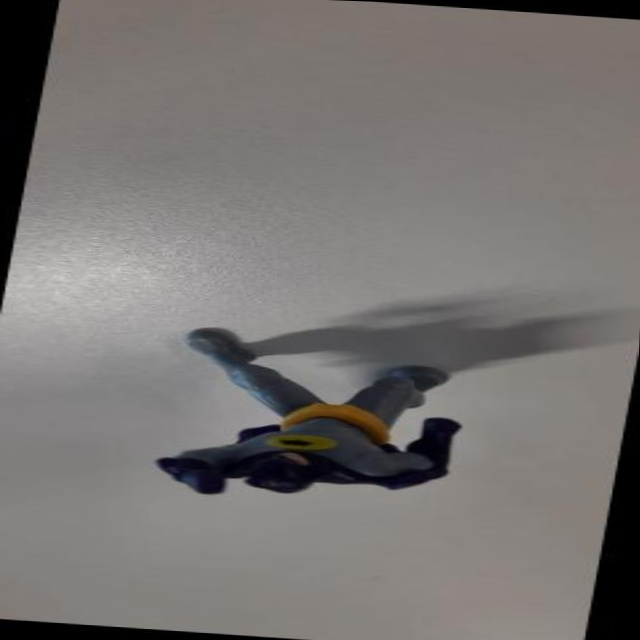Batman: (130, 322, 492, 519)
